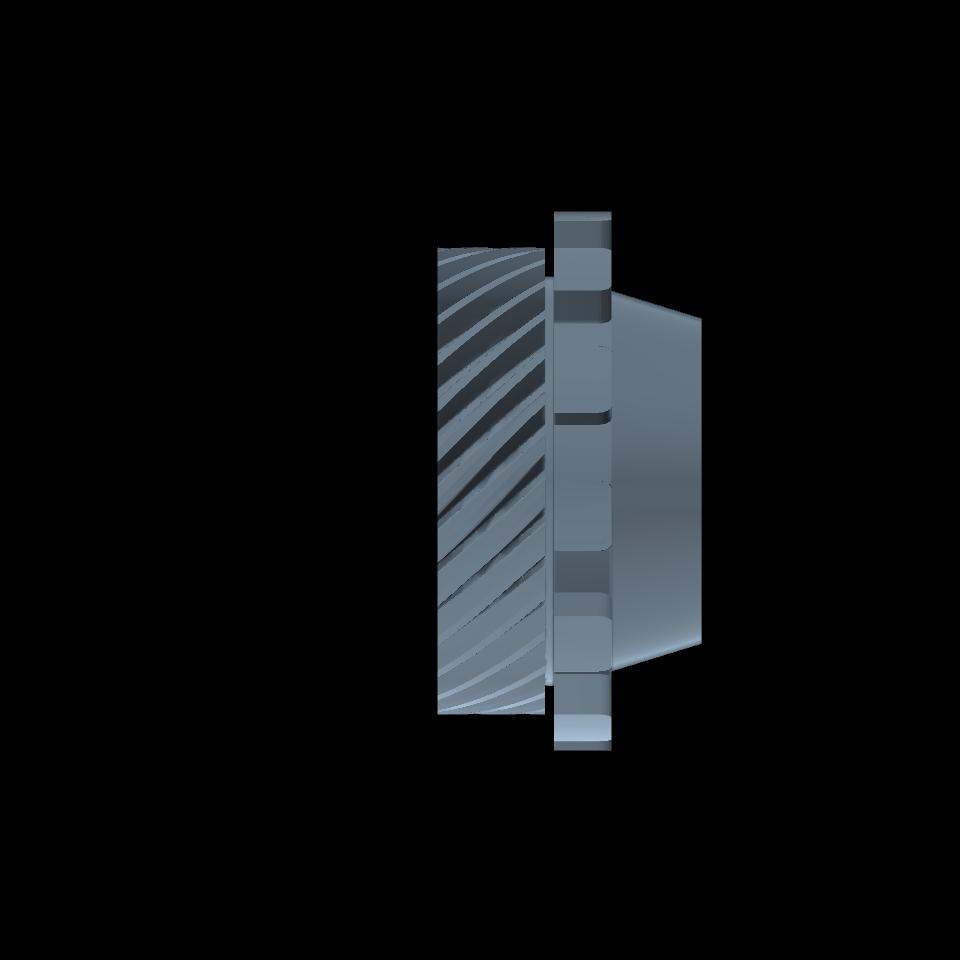Helical: (437, 248, 546, 713)
